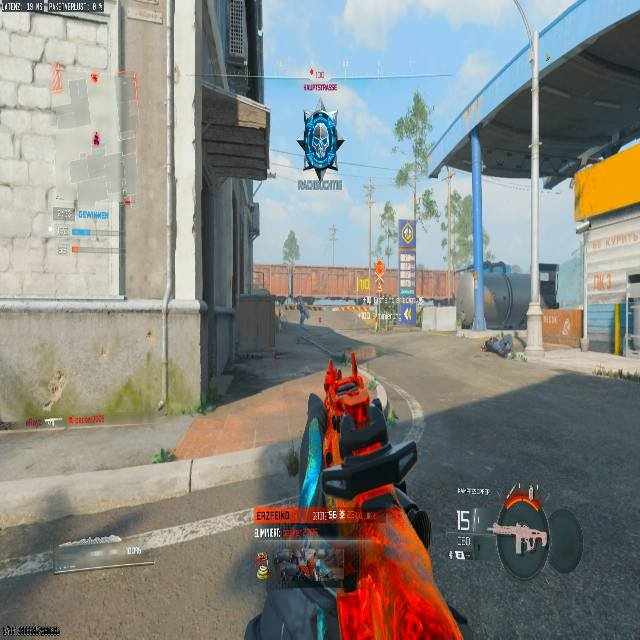player: (297, 300, 309, 328)
